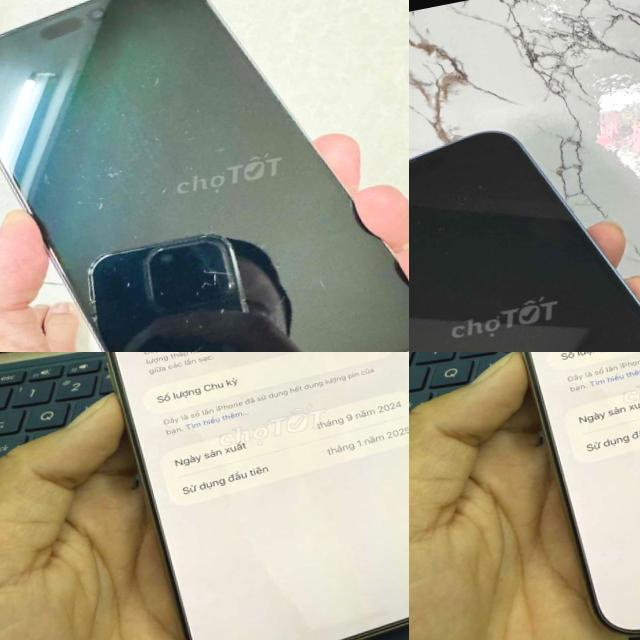gen_14: (409, 92, 640, 352)
gen_15: (0, 0, 409, 352)
gen_16: (106, 352, 409, 640), (522, 352, 640, 634)
